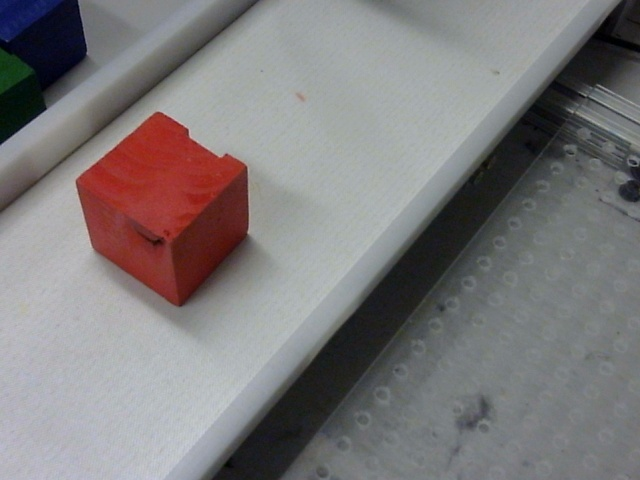RedBlock: (75, 111, 251, 308)
